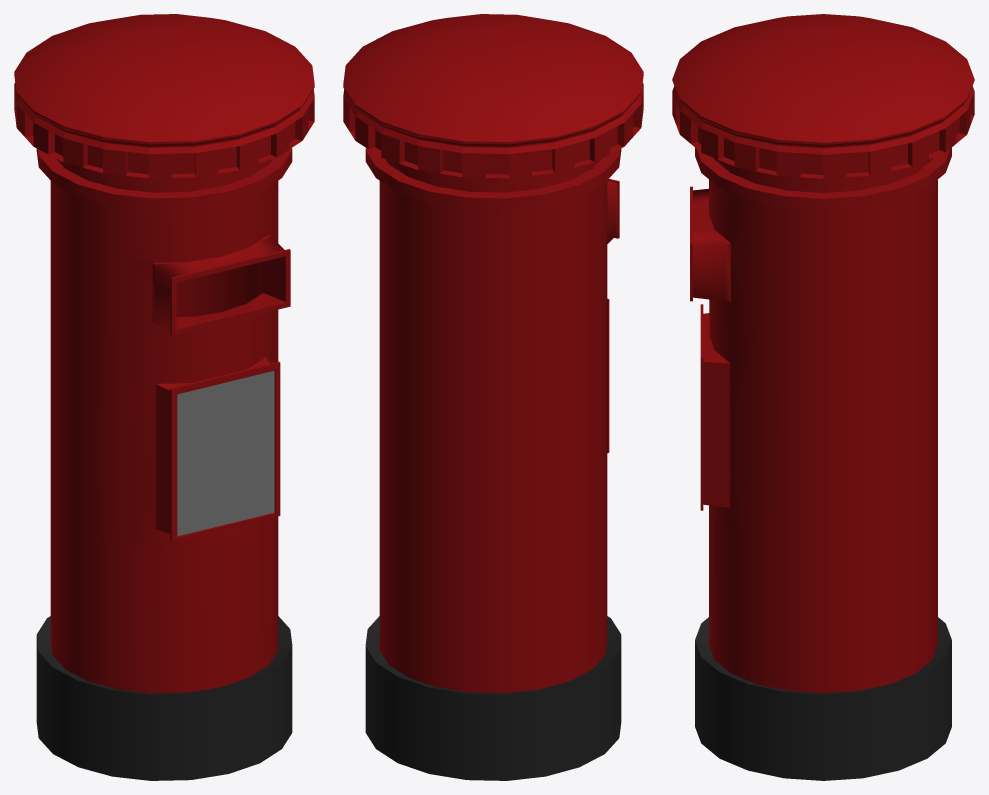
The model's file is postbox.obj.
The picture shows the model from 3 angles, left to right: view 1: azimuth 30°, elevation 25°; view 2: azimuth 150°, elevation 25°; view 3: azimuth 270°, elevation 25°; orthographic projection.
Visible parts, largest first — view 1: polySurface474 polySurface470; view 2: polySurface474 polySurface470; view 3: polySurface474 polySurface470.
Boxes of the visible parts, x1,y1,x2,y2 form: polySurface474 polySurface470: (14,14,314,780); polySurface474 polySurface470: (343,14,643,780); polySurface474 polySurface470: (672,14,974,780).
Bounding box in the file's own units: 110 × 271 × 110.
